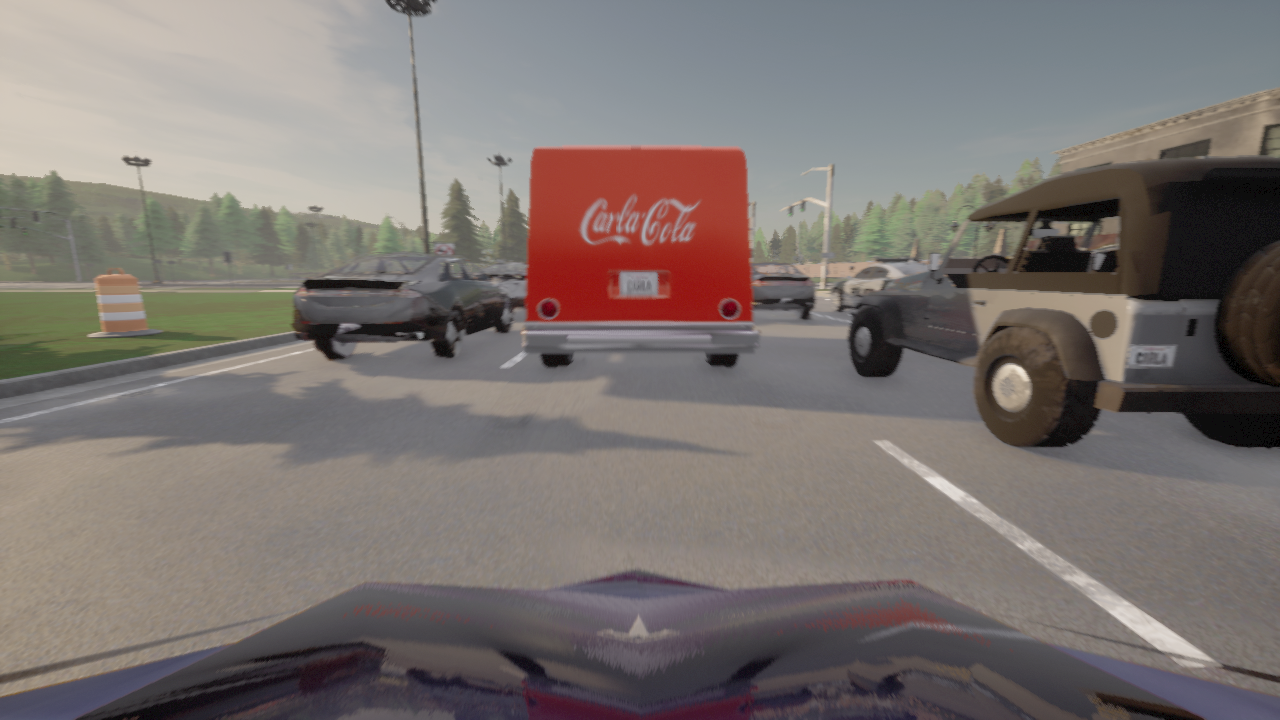cyclist: (0, 569, 1279, 719), (848, 156, 1279, 448), (522, 146, 759, 366), (291, 253, 514, 359), (831, 257, 927, 312), (751, 262, 815, 319), (482, 262, 527, 308)
